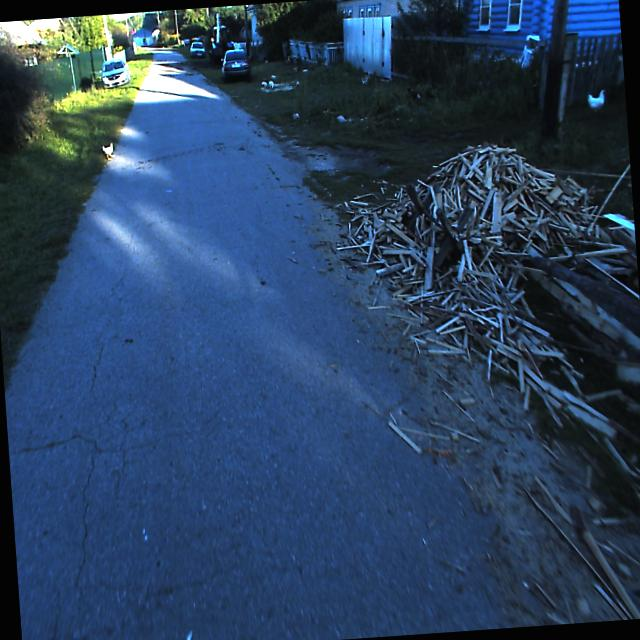road: (4, 73, 519, 640)
